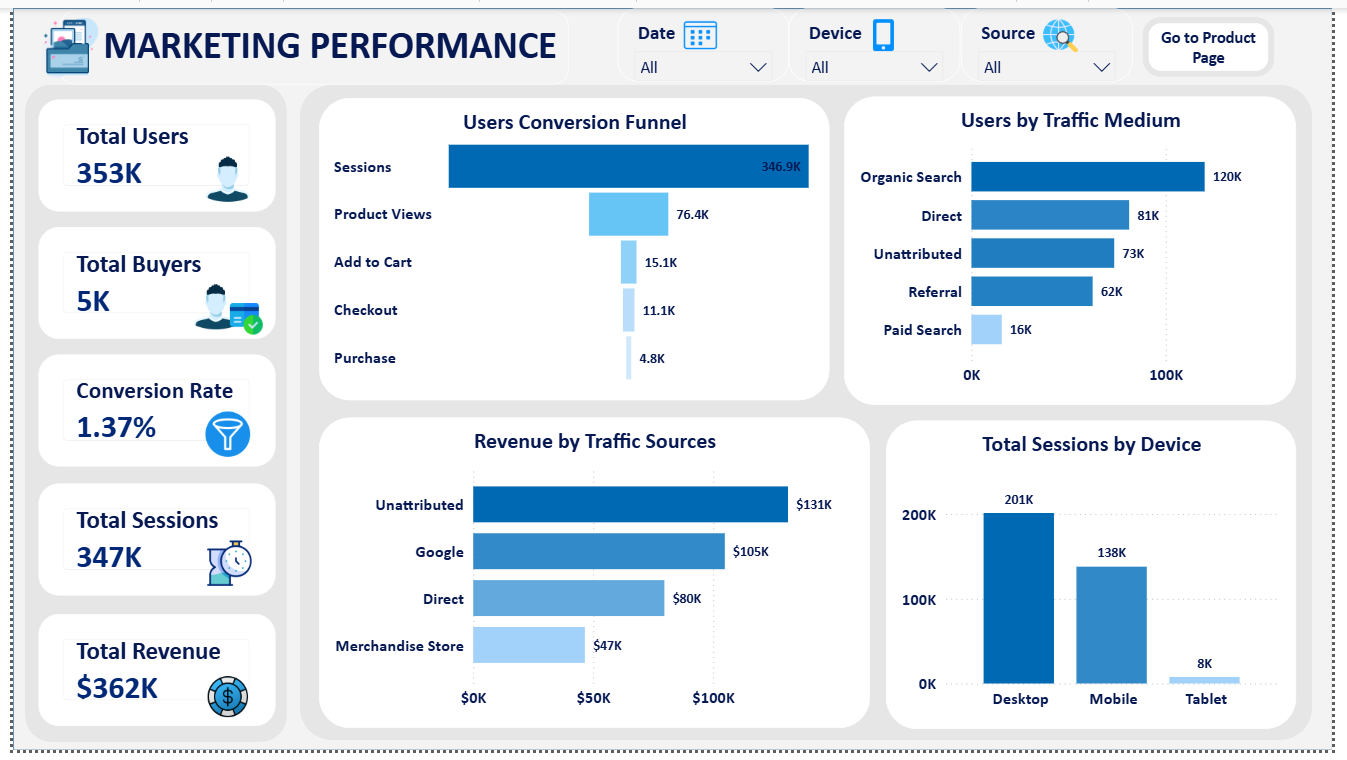

The dashboard page shown, as its layout file describes it:
{"tool":"powerbi","page":{"name":"Marketing Performance","canvas":[1280,720],"ordinal":0},"visuals":[{"type":"shape","box":[0,0,1280.8,720.6],"z":0},{"type":"textbox","box":[45.3,3.2,493.9,71.2],"z":1000},{"type":"shape","box":[11.3,74.5,254.2,638],"z":2000},{"type":"shape","box":[278.5,74.5,982.9,636.4],"z":3000},{"type":"cardVisual","fields":{"Data":["Sum(fact_marketing_funnel.users)"]},"box":[24.3,89.1,229.9,108.5],"z":4000},{"type":"cardVisual","fields":{"Data":["Sum(fact_marketing_funnel.purchasers)"]},"box":[24.3,212.1,229.9,108.5],"z":5000},{"type":"cardVisual","fields":{"Data":["all_measures.Marketing Conversion Rate"]},"box":[24.3,336.8,229.9,108.5],"z":6000},{"type":"cardVisual","fields":{"Data":["Sum(fact_marketing_funnel.sessions)"]},"box":[24.3,461.5,229.9,108.5],"z":7000},{"type":"cardVisual","fields":{"Data":["Sum(fact_marketing_funnel.revenue)"]},"box":[24.3,587.8,229.9,108.5],"z":8000},{"type":"funnel","title":"Users Conversion Funnel","fields":{"Y":["Sum(fact_marketing_funnel.sessions)","Sum(fact_marketing_funnel.view_item_users)","Sum(fact_marketing_funnel.add_to_cart_users)","Sum(fact_marketing_funnel.checkout_users)","Sum(fact_marketing_funnel.purchasers)"]},"box":[296.3,87.4,495.5,293.1],"z":9000},{"type":"clusteredBarChart","title":"Revenue by Traffic Sources","fields":{"Category":["fact_marketing_funnel.source"],"Y":["Sum(fact_marketing_funnel.revenue)"]},"box":[296.3,396.7,534.3,301.2],"z":10000},{"type":"clusteredBarChart","title":"Users by Traffic Medium","fields":{"Category":["fact_marketing_funnel.medium"],"Y":["Sum(fact_marketing_funnel.users)"]},"box":[806.4,85.8,438.8,299.6],"z":11000},{"type":"clusteredColumnChart","title":"Total Sessions by Device","fields":{"Category":["fact_marketing_funnel.device_category"],"Y":["Sum(fact_marketing_funnel.sessions)"]},"box":[846.9,399.9,398.3,299.6],"z":12000},{"type":"slicer","fields":{"Values":["fact_marketing_funnel.event_date_text"]},"box":[586.2,0,166.8,71.2],"z":13000},{"type":"slicer","fields":{"Values":["fact_marketing_funnel.device_category"]},"box":[752.9,0,166.8,71.2],"z":14000},{"type":"slicer","fields":{"Values":["fact_marketing_funnel.source"]},"box":[919.7,0,166.8,71.2],"z":15000},{"type":"image","box":[24.3,3.2,58.3,71.2],"z":16000},{"type":"image","box":[176.5,144.1,64.8,43.7],"z":17000},{"type":"image","box":[165.2,267.2,64.8,43.7],"z":18000},{"type":"image","box":[204,285,45.3,32.4],"z":19000},{"type":"image","box":[176.5,391.9,64.8,43.7],"z":20000},{"type":"image","box":[170,516.5,79.3,43.7],"z":21000},{"type":"image","box":[176.5,646.1,64.8,43.7],"z":22000},{"type":"image","box":[647.7,8.1,38.9,35.6],"z":23000},{"type":"image","box":[825.8,8.1,38.9,35.6],"z":24000},{"type":"image","box":[997.4,8.1,38.9,35.6],"z":25000}]}

Visuals, with their boxes in screenshot pixels (x1, y1, x2, y2), scaled from the page's 1280x720 canvas onto the 1347x760 screenshot:
shape: Rect(0, 0, 1346, 759)
textbox: Rect(48, 3, 567, 79)
shape: Rect(12, 79, 279, 752)
shape: Rect(293, 79, 1327, 750)
cardVisual - Sum(fact_marketing_funnel.users): Rect(26, 94, 268, 209)
cardVisual - Sum(fact_marketing_funnel.purchasers): Rect(26, 224, 268, 338)
cardVisual - all_measures.Marketing Conversion Rate: Rect(26, 356, 268, 470)
cardVisual - Sum(fact_marketing_funnel.sessions): Rect(26, 487, 268, 602)
cardVisual - Sum(fact_marketing_funnel.revenue): Rect(26, 620, 268, 735)
"Users Conversion Funnel" funnel: Rect(312, 92, 833, 402)
"Revenue by Traffic Sources" clusteredBarChart: Rect(312, 419, 874, 737)
"Users by Traffic Medium" clusteredBarChart: Rect(849, 91, 1310, 407)
"Total Sessions by Device" clusteredColumnChart: Rect(891, 422, 1310, 738)
slicer - fact_marketing_funnel.event_date_text: Rect(617, 0, 792, 75)
slicer - fact_marketing_funnel.device_category: Rect(792, 0, 968, 75)
slicer - fact_marketing_funnel.source: Rect(968, 0, 1143, 75)
image: Rect(26, 3, 87, 79)
image: Rect(186, 152, 254, 198)
image: Rect(174, 282, 242, 328)
image: Rect(215, 301, 262, 335)
image: Rect(186, 414, 254, 460)
image: Rect(179, 545, 262, 591)
image: Rect(186, 682, 254, 728)
image: Rect(682, 9, 723, 46)
image: Rect(869, 9, 910, 46)
image: Rect(1050, 9, 1091, 46)
